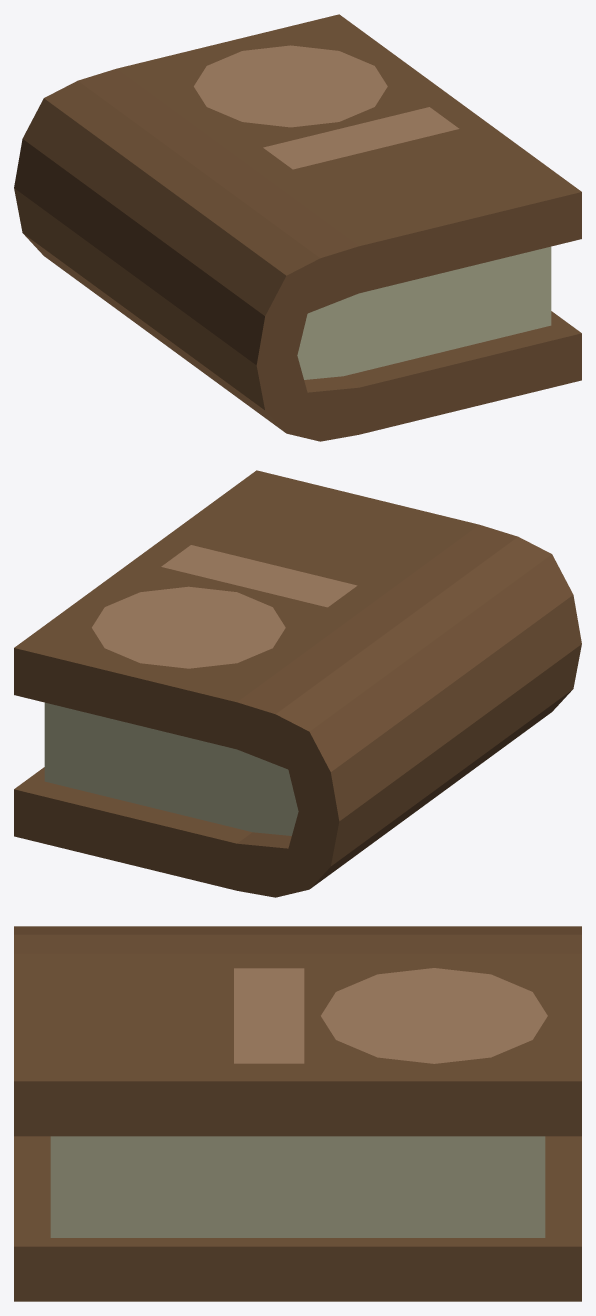
File: Book_4_Brown.fbx
The picture shows the model from 3 angles, top to bottom: view 1: azimuth 30°, elevation 25°; view 2: azimuth 150°, elevation 25°; view 3: azimuth 270°, elevation 25°; orthographic projection. The views are drawn at different scales.
Visible parts, largest first — view 1: Book_4_Brown_Part_1, Book_4_Brown_Part_2, Book_4_Brown_Part_3; view 2: Book_4_Brown_Part_1, Book_4_Brown_Part_2, Book_4_Brown_Part_3; view 3: Book_4_Brown_Part_1, Book_4_Brown_Part_2, Book_4_Brown_Part_3.
Boxes of the visible parts, x1,y1,x2,y2 form: Book_4_Brown_Part_1: (14,14,581,441); Book_4_Brown_Part_2: (297,246,551,379); Book_4_Brown_Part_3: (194,45,459,169); Book_4_Brown_Part_1: (14,470,581,897); Book_4_Brown_Part_2: (44,702,298,835); Book_4_Brown_Part_3: (92,545,357,668); Book_4_Brown_Part_1: (14,926,581,1301); Book_4_Brown_Part_2: (50,1136,545,1237); Book_4_Brown_Part_3: (234,968,547,1063).
Size of the model in its own units: 27.09 by 15.1 by 35.
